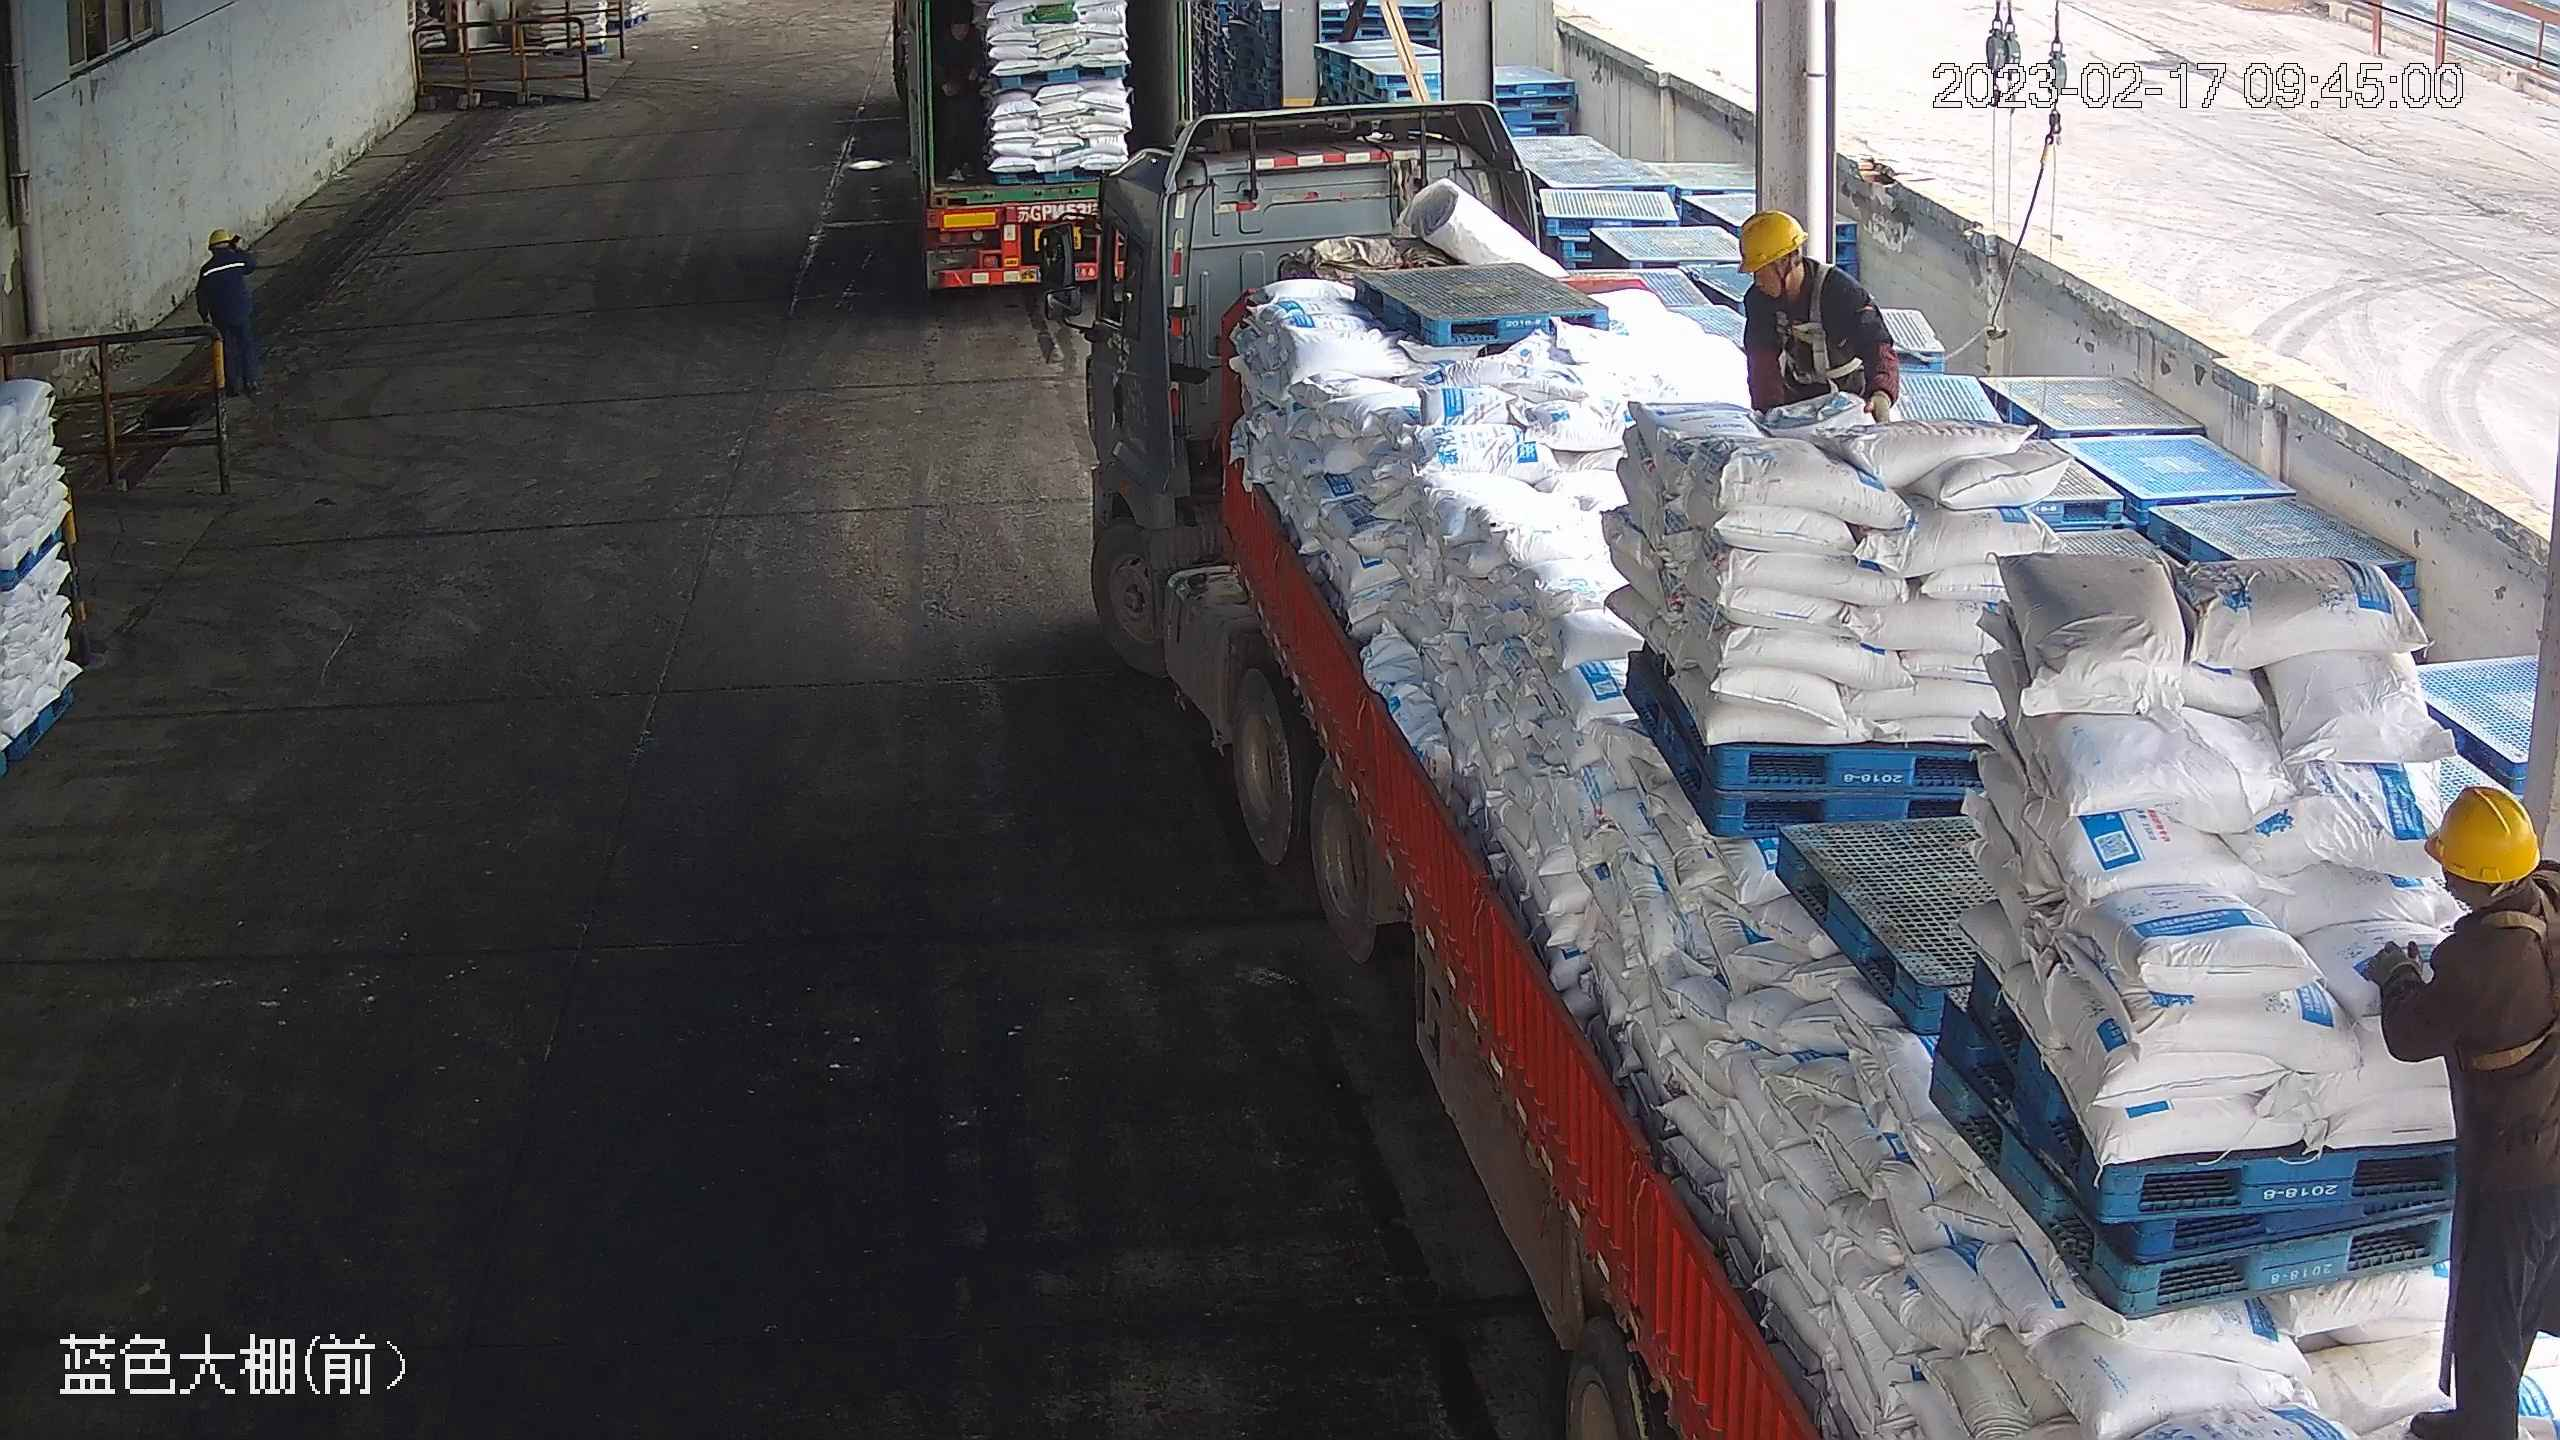belt: (2455, 888, 2560, 1064), (1777, 291, 1872, 392)
head: (2412, 785, 2559, 986), (1734, 210, 1860, 320), (200, 226, 253, 277)
helmet: (2417, 783, 2543, 879), (1727, 208, 1806, 269), (205, 225, 236, 248)
people: (2357, 783, 2560, 1438), (195, 224, 264, 399)
truck: (1051, 101, 2560, 1440), (866, 6, 1223, 291)
